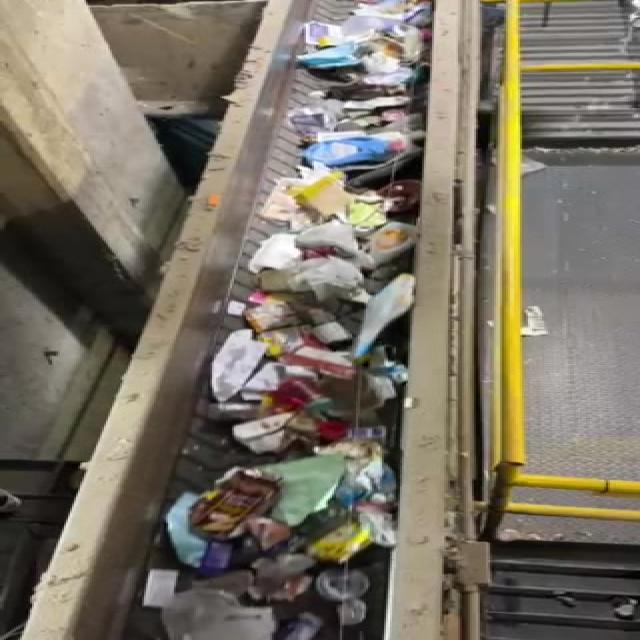paper: (188, 324, 271, 406), (232, 420, 377, 450), (140, 559, 189, 613)
pp: (174, 451, 272, 540), (307, 556, 383, 626)
